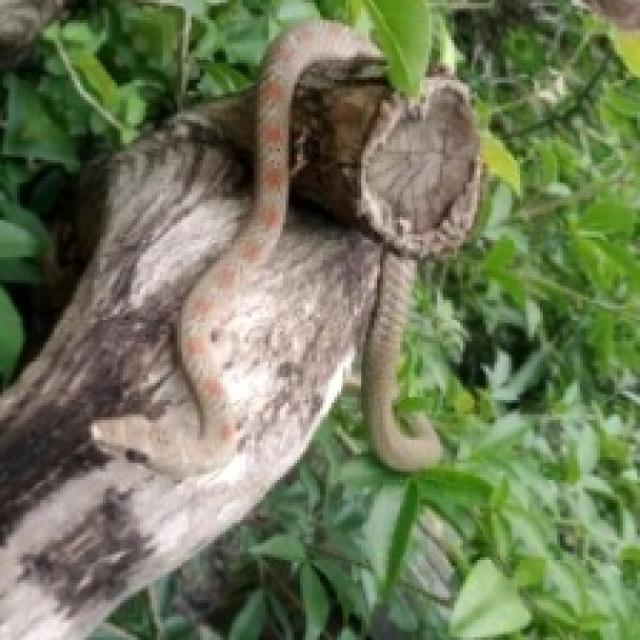paradise tree snake: (0, 23, 480, 637)
